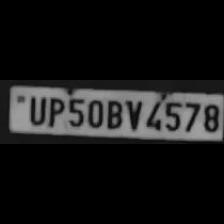0: (84, 96, 104, 128)
4: (144, 97, 162, 131)
5: (160, 97, 182, 131), (63, 95, 85, 127)
7: (180, 98, 200, 132)
8: (200, 100, 220, 132)
B: (104, 96, 124, 130)
P: (44, 93, 64, 126)
U: (24, 93, 46, 125)
V: (122, 96, 142, 132)
